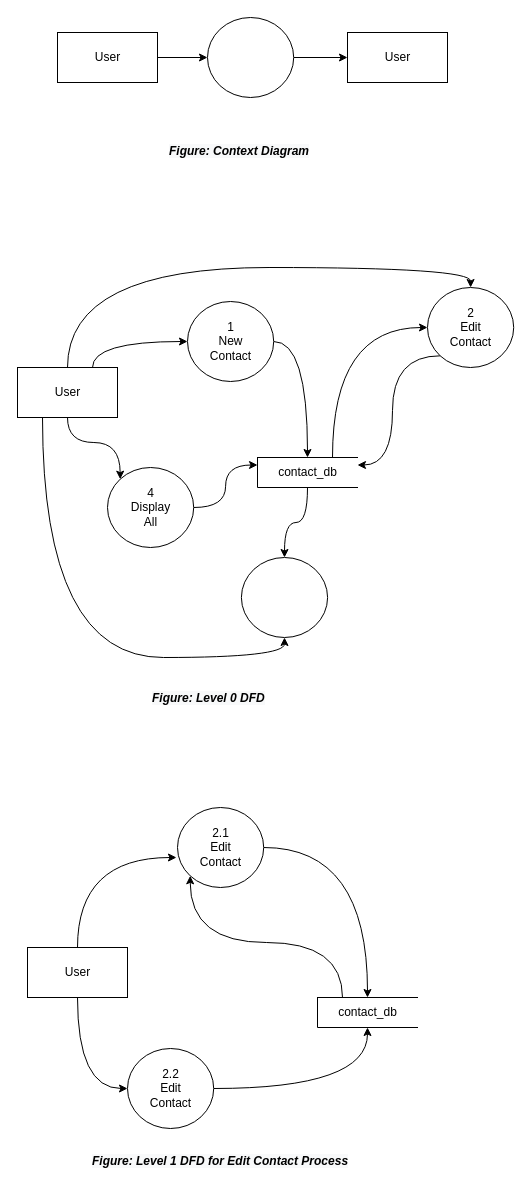
Image size: 532x1195. Some labels were removed from this diagram. The centre of each missing label's shape, as x and y in pixels:
"0 Contact Manager" goes at [250,57].
"3 Find Contact" goes at [284,597].
